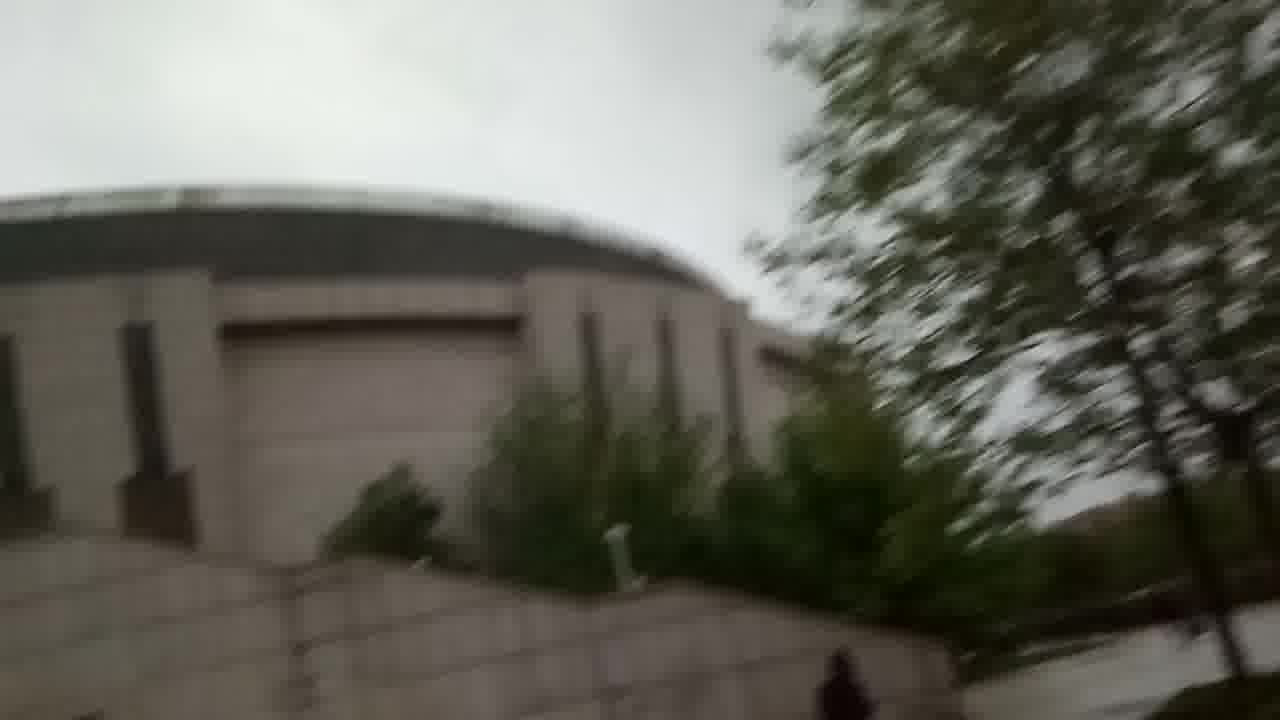zhongtiww: (8, 172, 949, 720)
